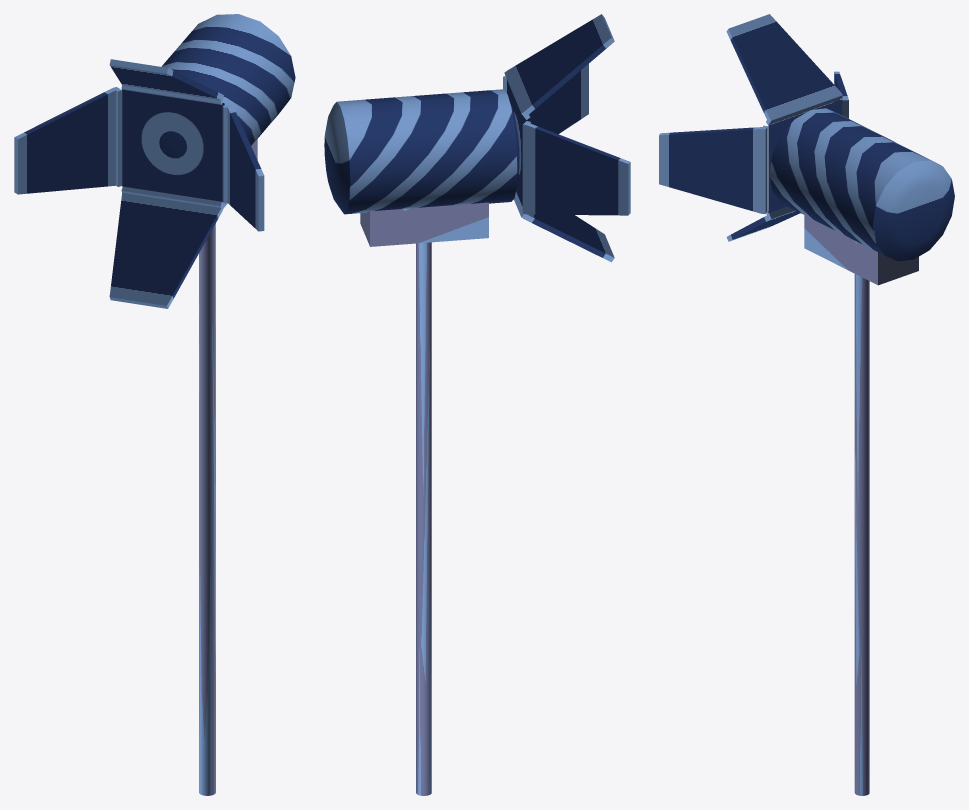
The model's file is PRMC_Foco.FBX.
3 renders of one model, left to right at view 1: azimuth 30°, elevation 25°; view 2: azimuth 150°, elevation 25°; view 3: azimuth 270°, elevation 25°, orthographic. The views are drawn at different scales.
Visible parts, largest first — view 1: PRMC_Foco; view 2: PRMC_Foco; view 3: PRMC_Foco.
Boxes of the visible parts, <box> form: PRMC_Foco: <box>14,14,295,795</box>; PRMC_Foco: <box>324,14,630,795</box>; PRMC_Foco: <box>659,14,954,795</box>.
Bounding box in the file's own units: 1.2 × 3.09 × 1.16.
